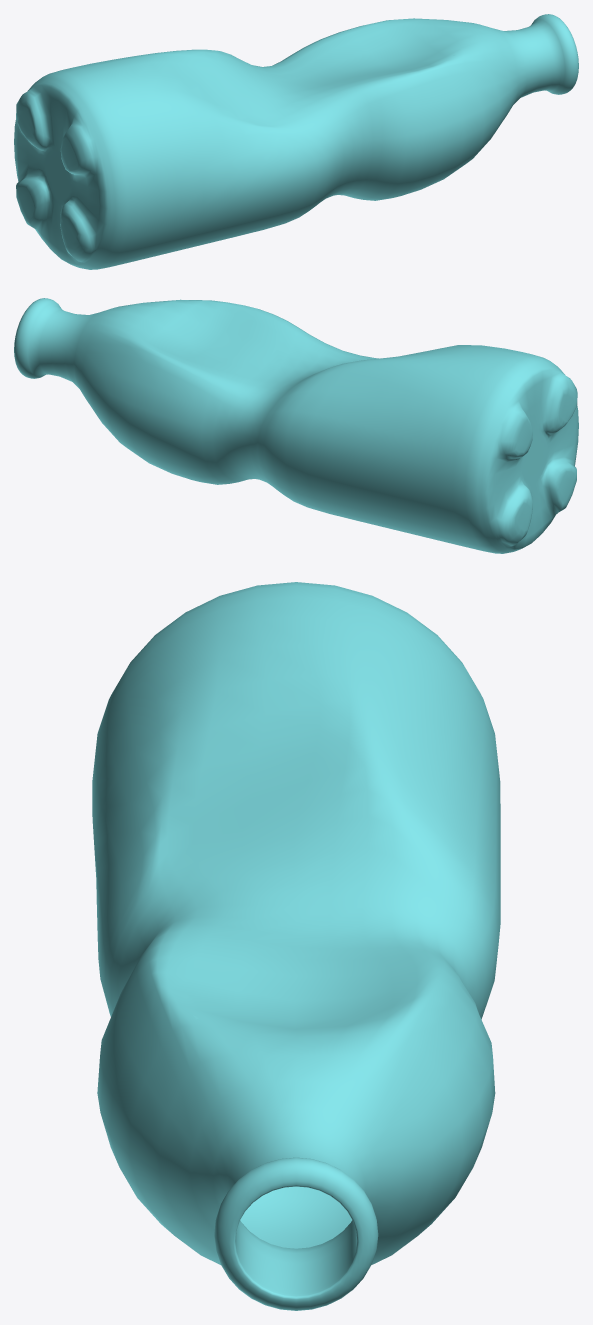
The model's file is bottle.fbx.
3 renders of one model, top to bottom at view 1: azimuth 30°, elevation 25°; view 2: azimuth 150°, elevation 25°; view 3: azimuth 270°, elevation 25°, orthographic. The views are drawn at different scales.
Parts seen in each view (by area): view 1: Cylinder.002; view 2: Cylinder.002; view 3: Cylinder.002.
Part boxes in pixels (x1,y1,x2,y2): Cylinder.002: [14, 14, 578, 269]; Cylinder.002: [14, 298, 578, 553]; Cylinder.002: [92, 582, 500, 1310].
Bounding box in the file's own units: 566 × 194 × 195.
